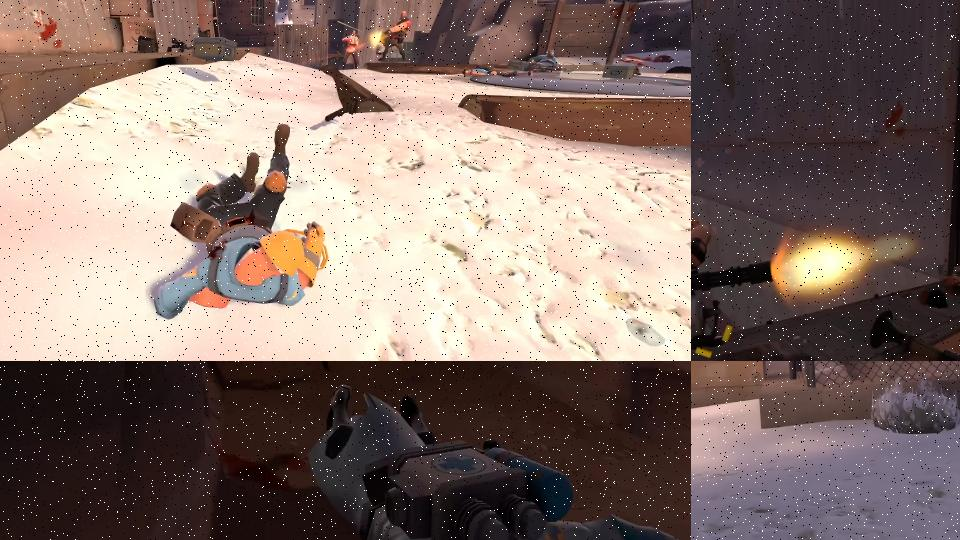Enemy: (298, 381, 691, 540), (154, 122, 329, 319), (691, 172, 776, 361), (375, 10, 411, 62), (341, 30, 361, 70)
